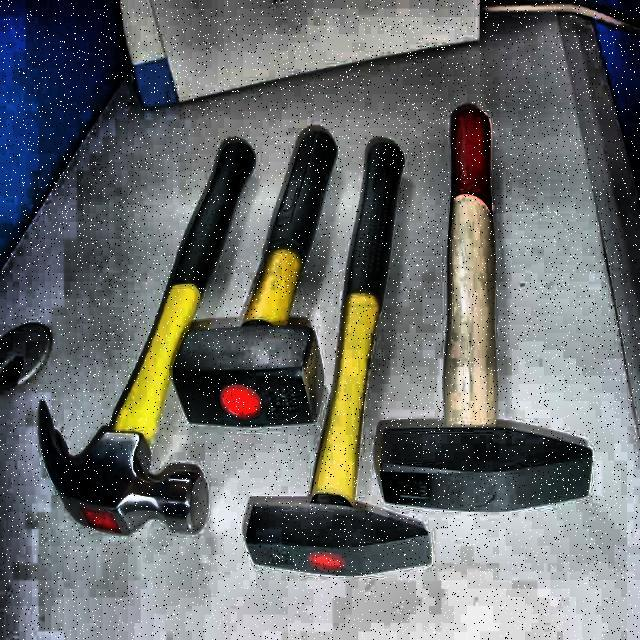hammer: (379, 102, 598, 510), (36, 139, 256, 537), (247, 141, 433, 577), (173, 132, 335, 427)
